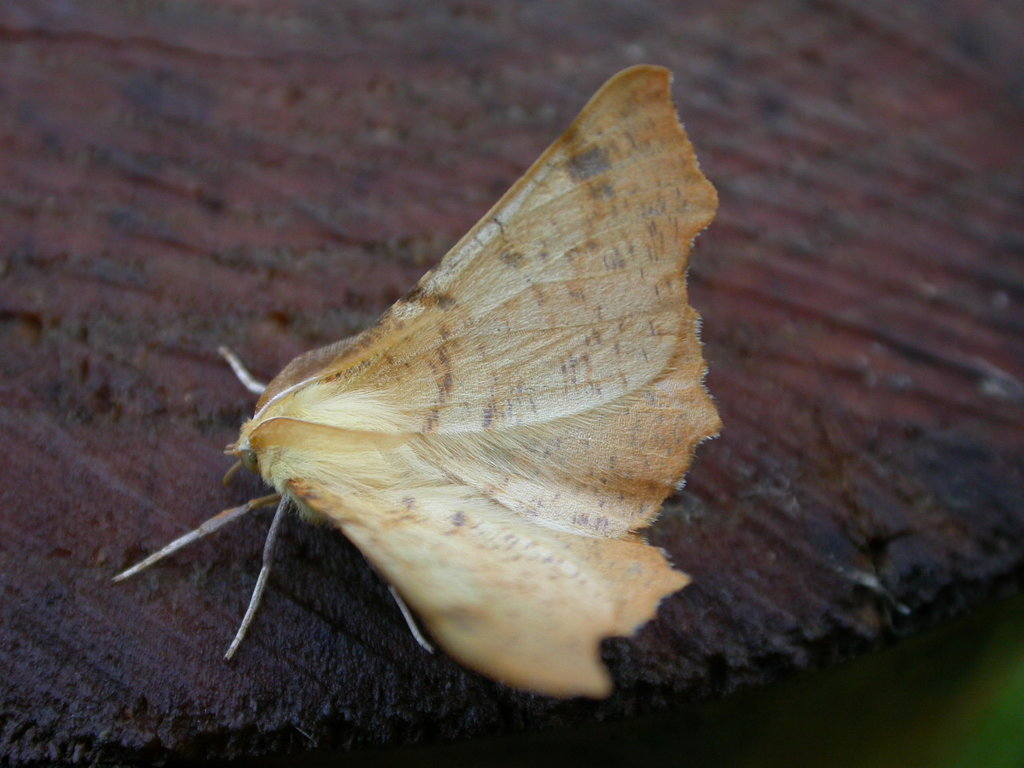Butterfly: (102, 50, 768, 734)
